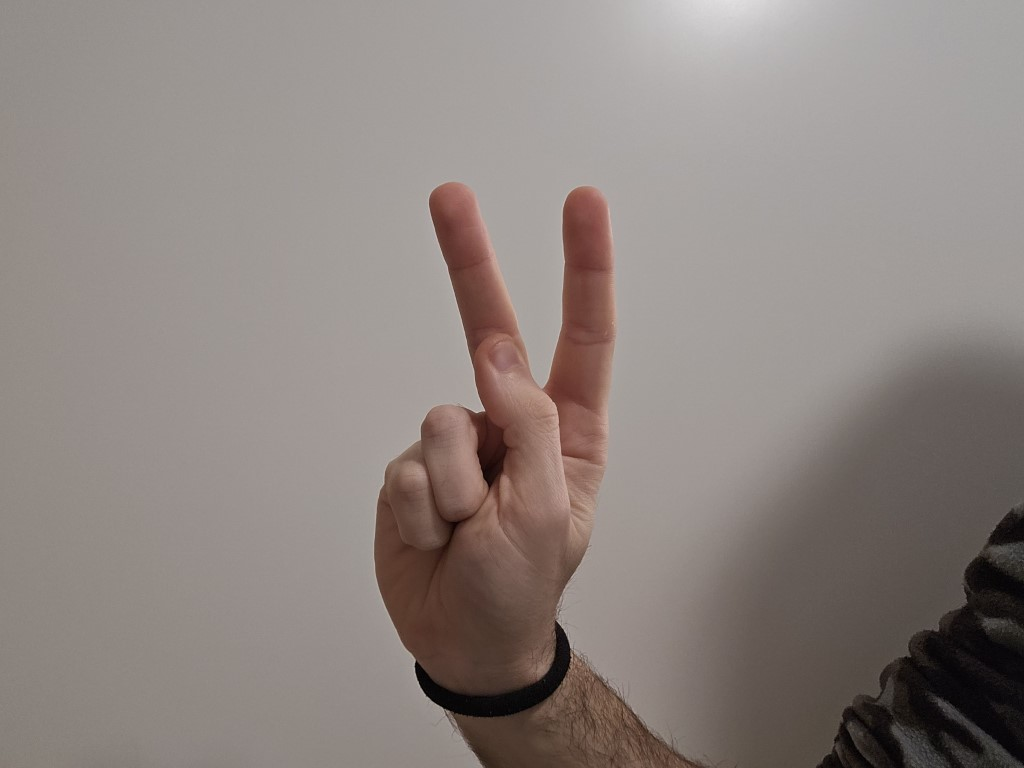k: (326, 166, 631, 642)
